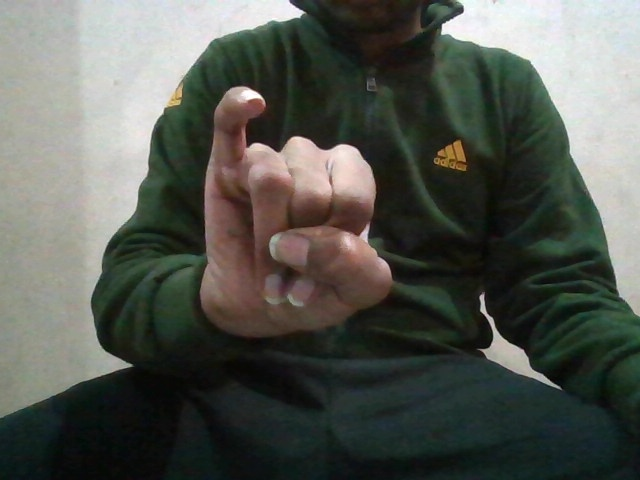J: (199, 83, 388, 324)
